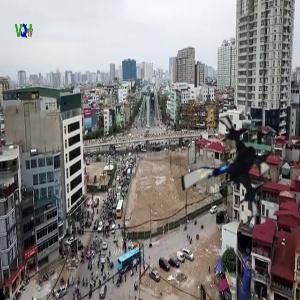drone: (172, 117, 286, 231)
